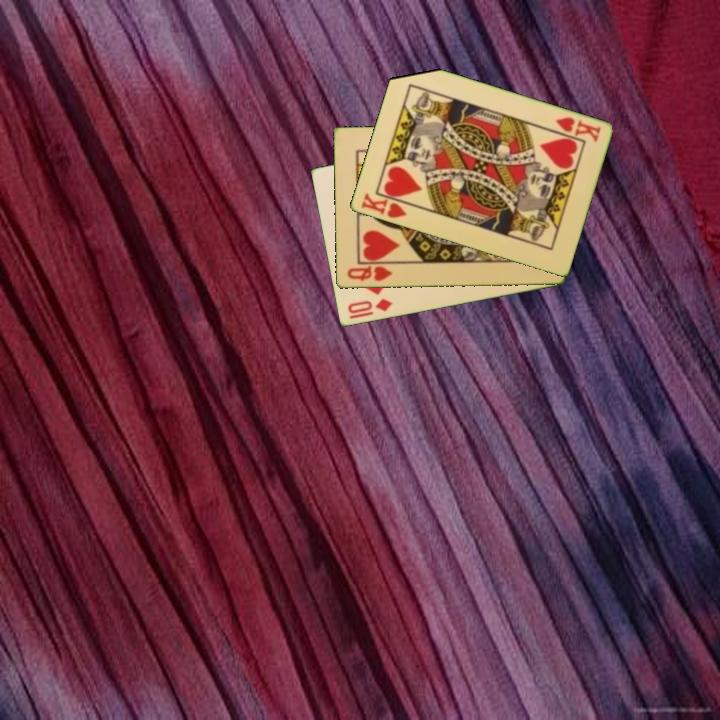10d: (344, 295, 395, 317)
Kh: (357, 189, 415, 221), (552, 114, 603, 145)
Qh: (343, 262, 395, 284)
